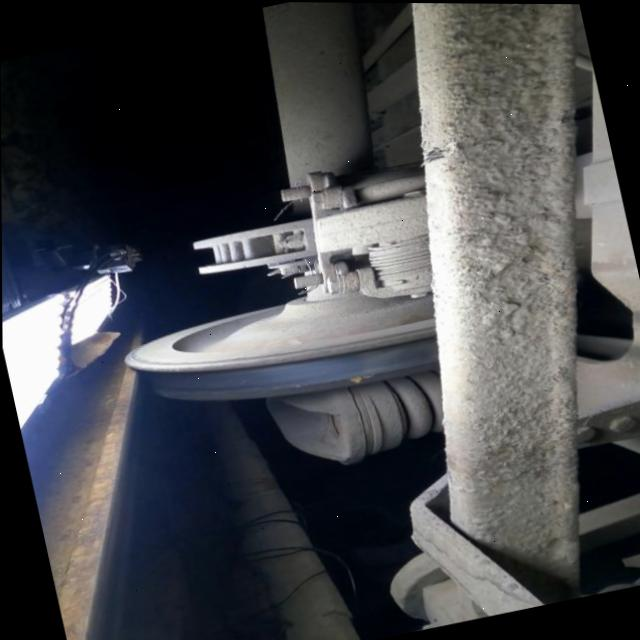Cracks-Scratches: (346, 374, 373, 382)
Shelling: (360, 338, 435, 374)
Wheel: (124, 293, 437, 400)
